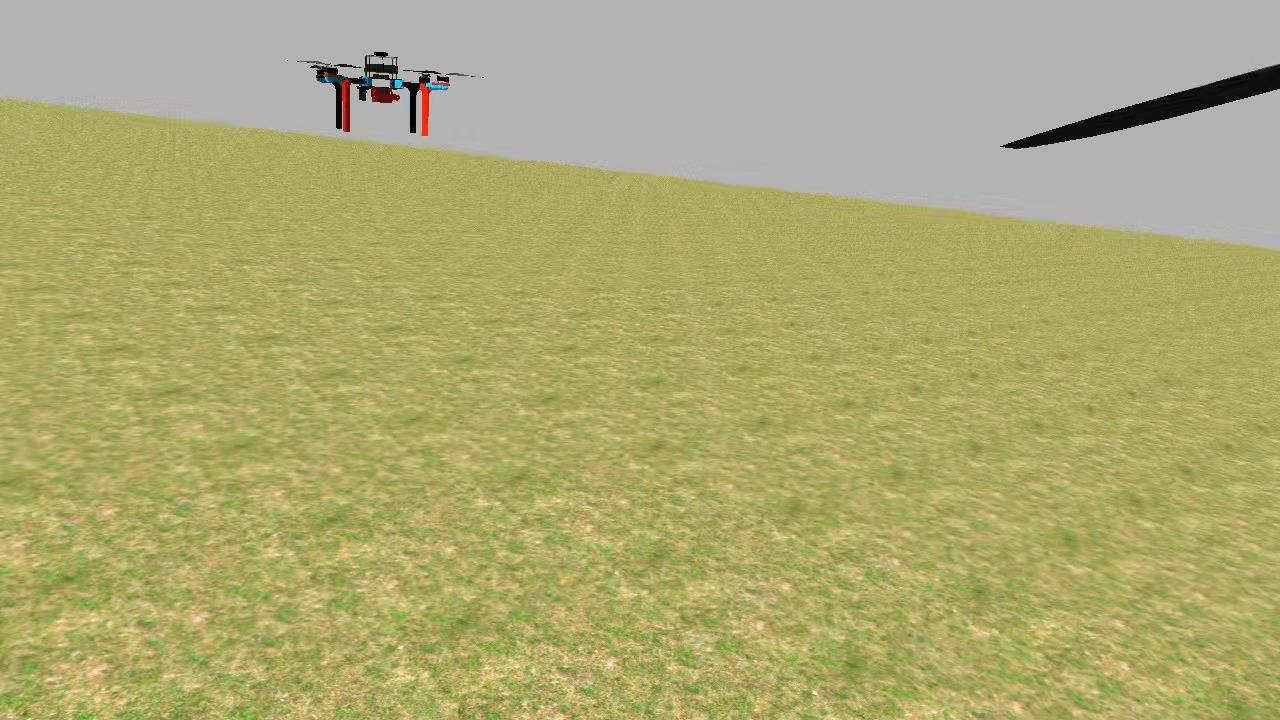UAV: (304, 44, 460, 140)
